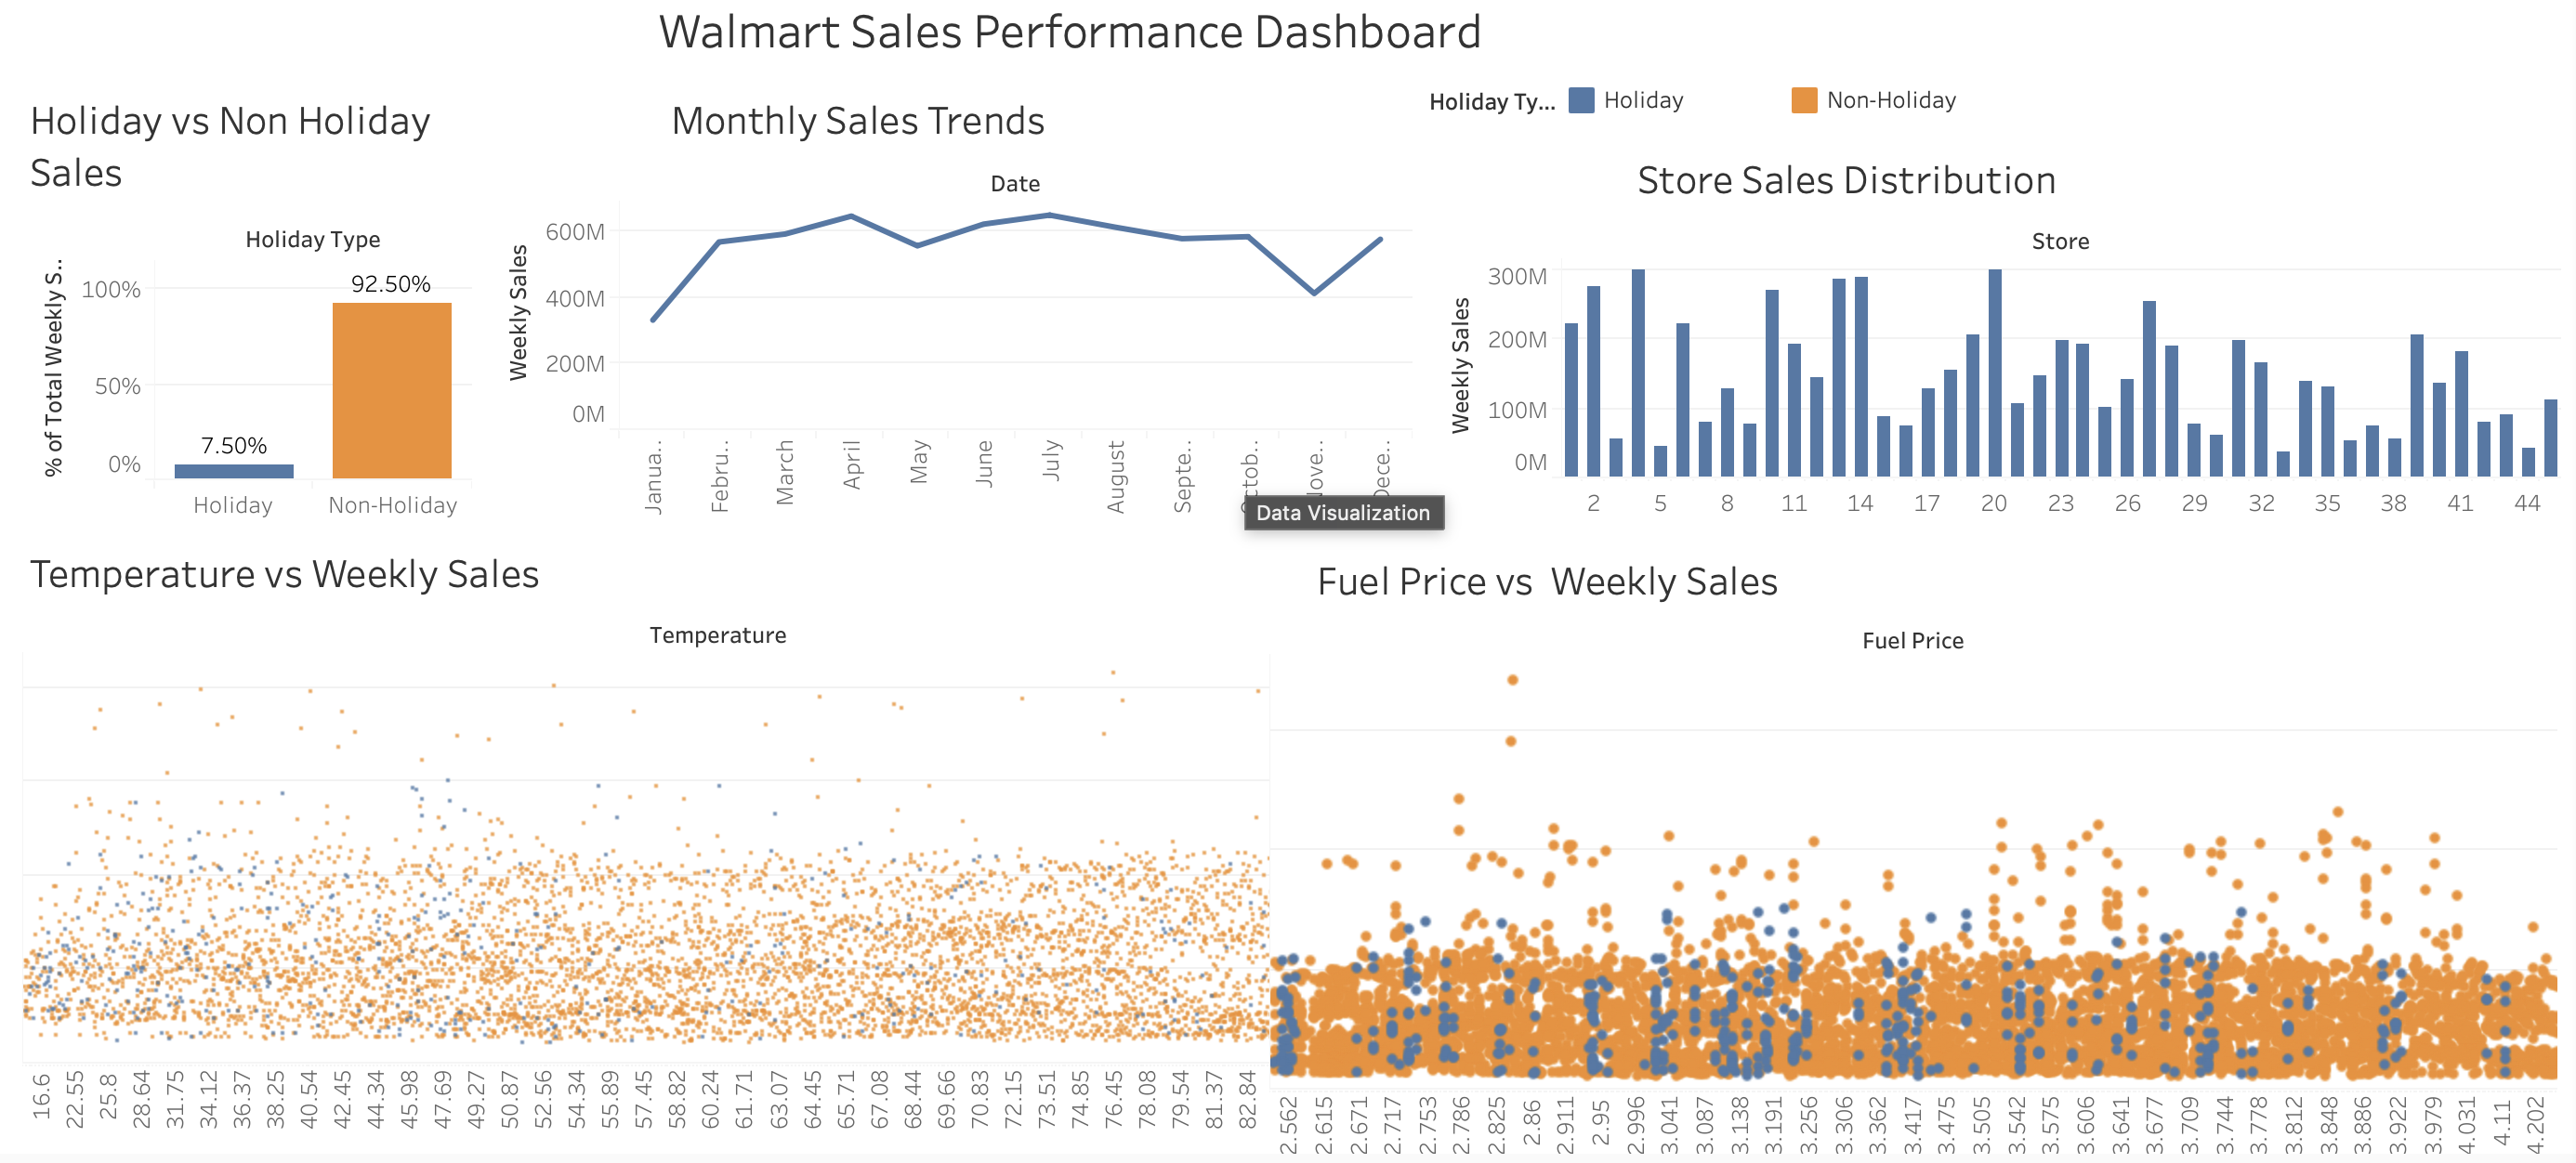

What the dashboard file says about the page in this screenshot:
{"tool":"tableau","page":{"name":"Walmart Sales Analysis Dashboard","canvas":[1000,1000],"units":"permille","ordinal":0},"visuals":[{"type":"title","box":[6.6,11.7,986.8,68.6]},{"type":"worksheet","title":"Sheet 3","mark":"Bar","rows":["Weekly_Sales"],"cols":["Calculation_1110349307461632"],"box":[6.6,80.3,158.5,386.9]},{"type":"worksheet","title":"Sheet 2","mark":"Automatic","rows":["Weekly_Sales"],"cols":["Date"],"box":[165.1,80.3,320.5,386.9]},{"type":"legend","title":"Sheet 3","param":"[federated.1hv6osm1c7774u15h8fj41fgpyse].[none:Calculation_1110349307461632:nk]","box":[485.6,80.3,507.8,46.7]},{"type":"worksheet","title":"Sheet 6","mark":"Automatic","rows":["Weekly_Sales"],"cols":["Store"],"box":[485.6,127,507.8,308]},{"type":"worksheet","title":"Sheet 4","mark":"Circle","rows":["Weekly_Sales"],"cols":["Temperature"],"box":[6.6,467.2,479,521.2]},{"type":"worksheet","title":"Sheet 5","mark":"Circle","rows":["Weekly_Sales"],"cols":["Fuel_Price"],"box":[491.4,483.2,498.8,519.7]}]}

Visuals, with their boxes on the dashboard's canvas, which has no fixed pixel size, in thousandths of its width and height (x1, y1, x2, y2). These are canvas units, not pixel positions in the 2576x1163 screenshot, which may show the page scaled, cropped or inside an application window:
title: 7,12,993,80
"Sheet 3" worksheet (Bar marks): 7,80,165,467
"Sheet 2" worksheet: 165,80,486,467
"Sheet 3" legend: 486,80,993,127
"Sheet 6" worksheet: 486,127,993,435
"Sheet 4" worksheet (Circle marks): 7,467,486,988
"Sheet 5" worksheet (Circle marks): 491,483,990,1003
